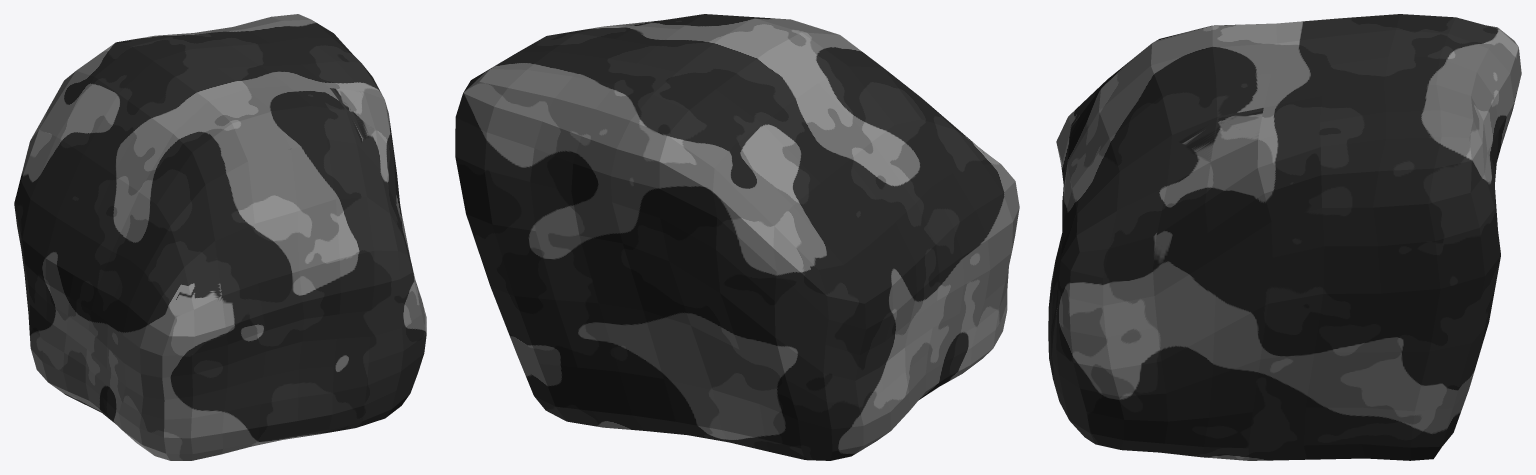
Rendered from Rock2.fbx.
3 renders of one model, left to right at view 1: azimuth 30°, elevation 25°; view 2: azimuth 150°, elevation 25°; view 3: azimuth 270°, elevation 25°, orthographic. The views are drawn at different scales.
Parts seen in each view (by area): view 1: Cube.001; view 2: Cube.001; view 3: Cube.001.
Part boxes in pixels (x1=…): Cube.001: x1=14, y1=14, x2=426, y2=460; Cube.001: x1=455, y1=14, x2=1019, y2=460; Cube.001: x1=1048, y1=14, x2=1521, y2=460.
Size of the model in its own units: 287 by 250 by 283.
Materials: 1 (1 with a texture image).
